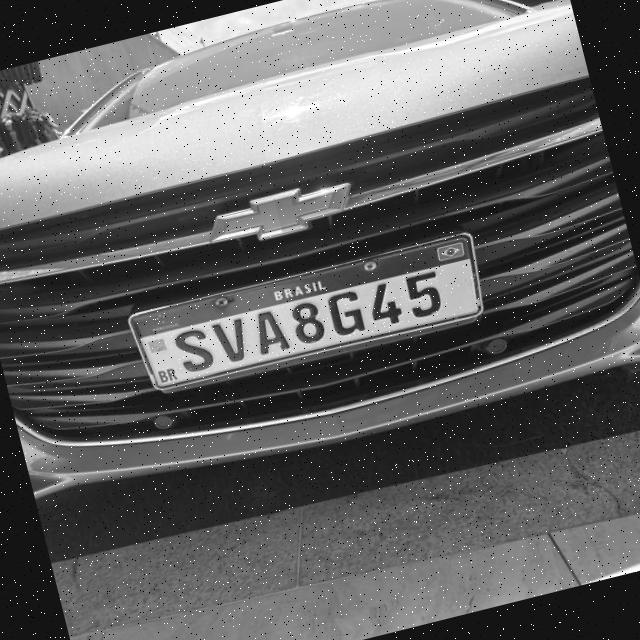numeros: (172, 326, 215, 375), (404, 269, 446, 319), (324, 290, 366, 338), (210, 318, 250, 366), (365, 280, 405, 328), (250, 309, 290, 356), (289, 299, 328, 347)
